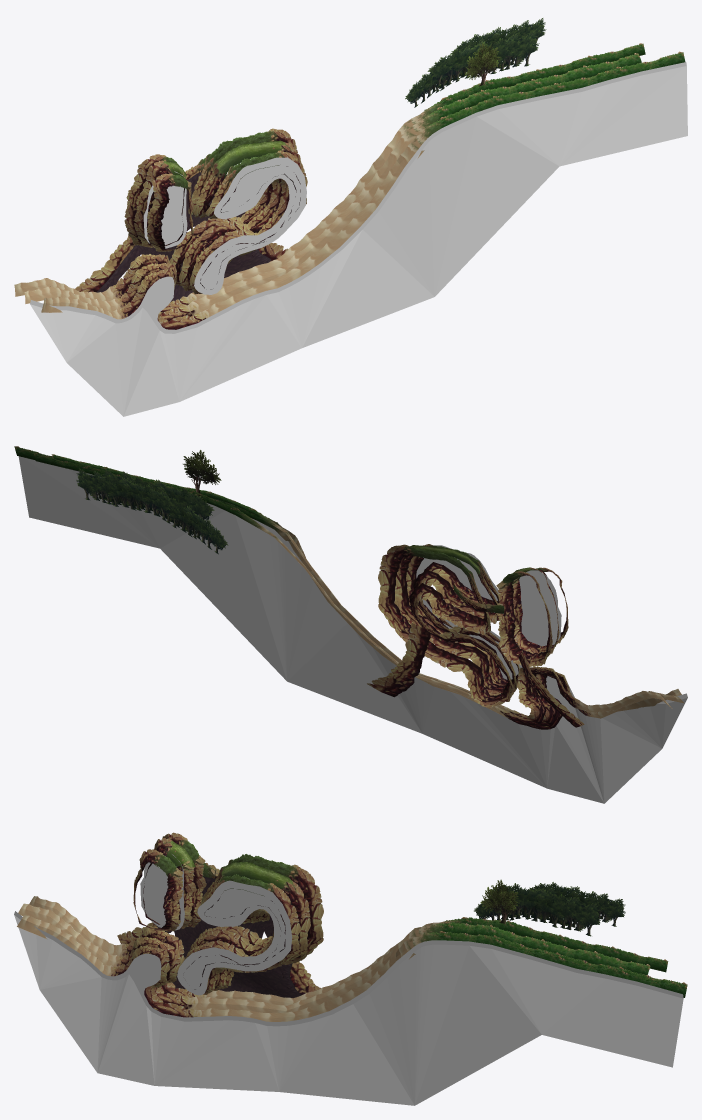
Rendered from LVL12 Pt4.FBX.
The picture shows the model from 3 angles, top to bottom: view 1: azimuth 30°, elevation 25°; view 2: azimuth 150°, elevation 25°; view 3: azimuth 330°, elevation 25°; orthographic projection.
Parts seen in each view (by area): view 1: LVL 12 Black Pt 4_4, LVL 12 Black Pt 4_3, LVL 12 Black Pt 4_2, LVL12 RockToSand Pt 4_2, LVL12 RockToSand Pt 4_2 FG, LVL12 GrassToRock Pt4, LVL12 Tree BG Pt4, LVL12 RockToSand Pt 4_2 BG, LVL12 GrassToRock Pt4 FG, LVL12 GrassToRock Pt4 BG, LVL12 Grass2 Pt4 FG, LVL12 Grass2 Pt4 (+12 smaller); view 2: LVL 12 Black Pt 4_4, LVL 12 Black Pt 4_3, LVL12 GrassToRock Pt4 BG, LVL12 Tree BG Pt4, LVL12 GrassToRock Pt4, LVL 12 Dirt BG Edge Pt 4, LVL12 RockToSand Pt 4_2 BG, LVL 12 Black Pt 4_1, LVL12 GrassToRock Pt4 FG, LVL12 RockToSand Pt 4_1 BG, LVL12 RockToSand Pt 4_2 FG, LVL12 RockToSand Pt 4_2 (+5 smaller); view 3: LVL 12 Black Pt 4_4, LVL 12 Black Pt 4_3, LVL 12 Black Pt 4_2, LVL12 RockToSand Pt 4_2, LVL12 RockToSand Pt 4_2 FG, LVL12 Tree BG Pt4, LVL12 GrassToRock Pt4, LVL12 GrassToRock Pt4 FG, LVL12 RockToSand Pt 4_2 BG, LVL12 GrassToRock Pt4 BG, LVL12 Grass2 Pt4 FG, LVL12 Grass2 Pt4 (+11 smaller).
Part boxes in pixels (bbox=[...]): LVL 12 Black Pt 4_4: bbox=[266, 62, 687, 347]; LVL 12 Black Pt 4_3: bbox=[30, 276, 301, 416]; LVL 12 Black Pt 4_2: bbox=[194, 157, 306, 294]; LVL12 RockToSand Pt 4_2: bbox=[24, 163, 389, 321]; LVL12 RockToSand Pt 4_2 FG: bbox=[41, 161, 403, 329]; LVL12 GrassToRock Pt4: bbox=[150, 140, 301, 290]; LVL12 Tree BG Pt4: bbox=[405, 18, 546, 107]; LVL12 RockToSand Pt 4_2 BG: bbox=[14, 155, 385, 313]; LVL12 GrassToRock Pt4 FG: bbox=[153, 150, 307, 294]; LVL12 GrassToRock Pt4 BG: bbox=[146, 128, 297, 285]; LVL12 Grass2 Pt4 FG: bbox=[445, 51, 685, 124]; LVL12 Grass2 Pt4: bbox=[441, 53, 641, 116]; LVL 12 Black Pt 4_4: bbox=[18, 456, 445, 733]; LVL 12 Black Pt 4_3: bbox=[423, 676, 687, 803]; LVL12 GrassToRock Pt4 BG: bbox=[378, 544, 533, 707]; LVL12 Tree BG Pt4: bbox=[76, 468, 228, 554]; LVL12 GrassToRock Pt4: bbox=[394, 545, 544, 697]; LVL 12 Dirt BG Edge Pt 4: bbox=[367, 585, 584, 727]; LVL12 RockToSand Pt 4_2 BG: bbox=[304, 565, 672, 724]; LVL 12 Black Pt 4_1: bbox=[519, 570, 561, 646]; LVL12 GrassToRock Pt4 FG: bbox=[406, 544, 557, 690]; LVL12 RockToSand Pt 4_1 BG: bbox=[496, 577, 552, 667]; LVL12 RockToSand Pt 4_2 FG: bbox=[303, 560, 681, 729]; LVL12 RockToSand Pt 4_2: bbox=[311, 566, 683, 725]; LVL 12 Black Pt 4_4: bbox=[254, 940, 683, 1105]; LVL 12 Black Pt 4_3: bbox=[14, 911, 278, 1091]; LVL 12 Black Pt 4_2: bbox=[177, 880, 292, 995]; LVL12 RockToSand Pt 4_2: bbox=[18, 903, 390, 1012]; LVL12 RockToSand Pt 4_2 FG: bbox=[17, 915, 396, 1021]; LVL12 Tree BG Pt4: bbox=[474, 882, 625, 936]; LVL12 GrassToRock Pt4: bbox=[158, 838, 310, 990]; LVL12 GrassToRock Pt4 FG: bbox=[143, 849, 301, 994]; LVL12 RockToSand Pt 4_2 BG: bbox=[29, 896, 397, 1005]; LVL12 GrassToRock Pt4 BG: bbox=[168, 832, 323, 989]; LVL12 Grass2 Pt4 FG: bbox=[445, 931, 687, 997]; LVL12 Grass2 Pt4: bbox=[448, 922, 650, 974].
Bounding box in the file's own units: 15343 × 1990 × 6024.
